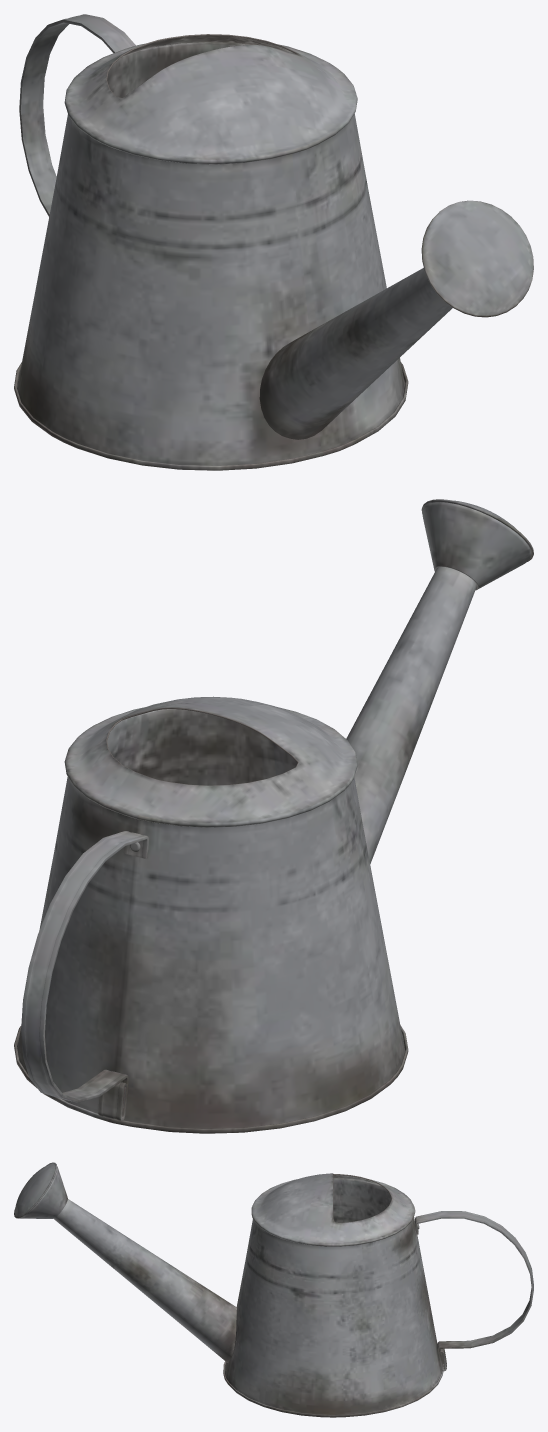
Rendered from watering_can_metal_01.glb.
The picture shows the model from 3 angles, top to bottom: view 1: azimuth 30°, elevation 25°; view 2: azimuth 150°, elevation 25°; view 3: azimuth 270°, elevation 25°; orthographic projection. The views are drawn at different scales.
Parts seen in each view (by area): view 1: watering_can_metal_01; view 2: watering_can_metal_01; view 3: watering_can_metal_01.
Boxes of the visible parts, x1,y1,x2,y2 form: watering_can_metal_01: (14,14,533,470); watering_can_metal_01: (14,499,533,1133); watering_can_metal_01: (14,1162,533,1417).
Bounding box in the file's own units: 0.191 × 0.1968 × 0.4523.
1 material, 1 textured.
